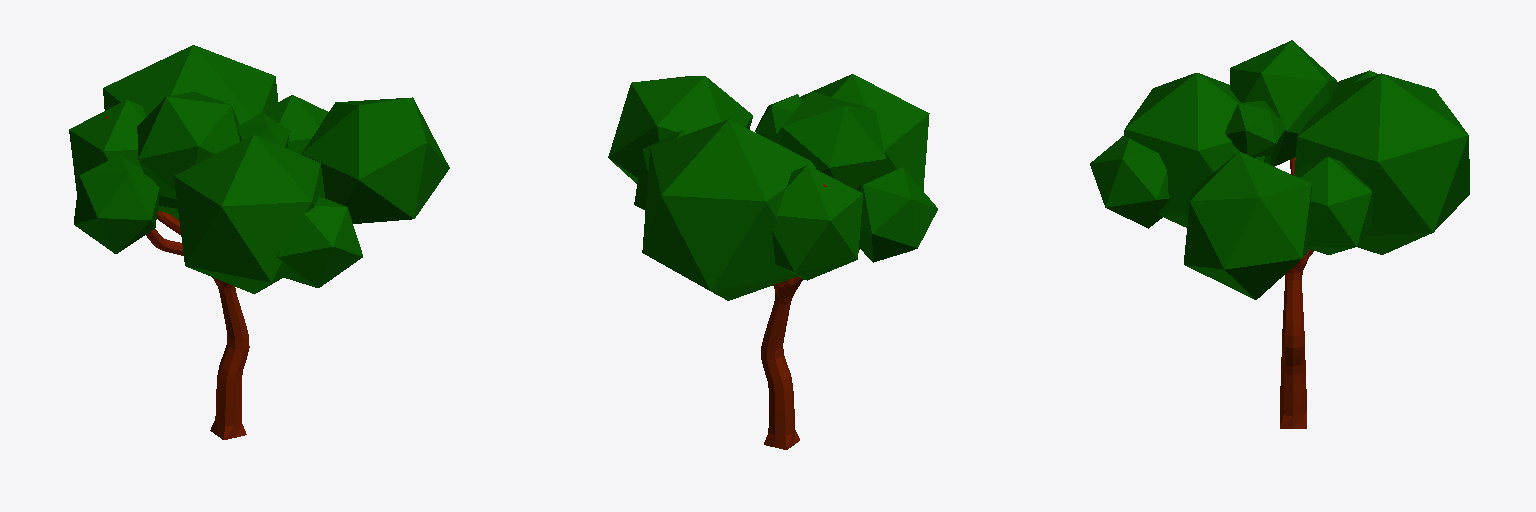
The model's file is tree.obj.
3 views of the same model, side by side, from view 1: azimuth 30°, elevation 25°; view 2: azimuth 150°, elevation 25°; view 3: azimuth 270°, elevation 25° (orthographic).
Visible parts, largest first — view 1: Leaves_Icosphere.004, Tree_Plane; view 2: Leaves_Icosphere.004, Tree_Plane; view 3: Leaves_Icosphere.004, Tree_Plane.
Boxes of the visible parts, box(x1,y1,x2,y2) form: Leaves_Icosphere.004: box(69, 45, 449, 293); Tree_Plane: box(105, 116, 249, 439); Leaves_Icosphere.004: box(608, 74, 937, 300); Tree_Plane: box(761, 184, 859, 449); Leaves_Icosphere.004: box(1090, 40, 1469, 299); Tree_Plane: box(1280, 157, 1313, 428).
Bounding box in the file's own units: 8.87 × 9.02 × 8.8.